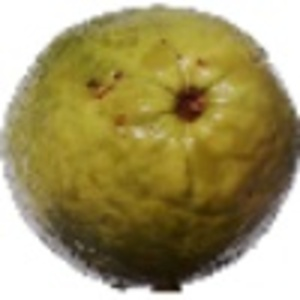goiaba: (2, 3, 296, 292)
